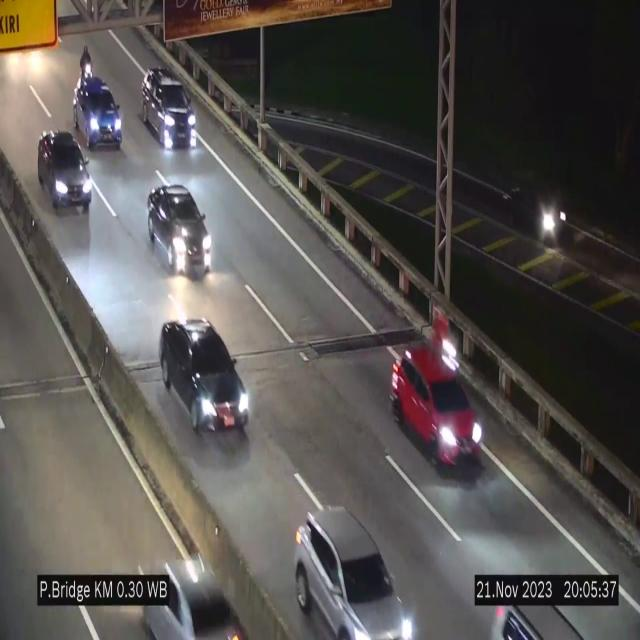Car: (295, 506, 419, 638), (390, 331, 484, 470), (160, 309, 254, 436), (136, 554, 249, 640), (146, 179, 212, 295), (503, 169, 571, 258), (142, 54, 196, 158), (34, 124, 88, 212), (485, 606, 589, 640), (74, 75, 122, 147)
Motorcycle: (418, 298, 460, 372), (78, 40, 95, 94)
